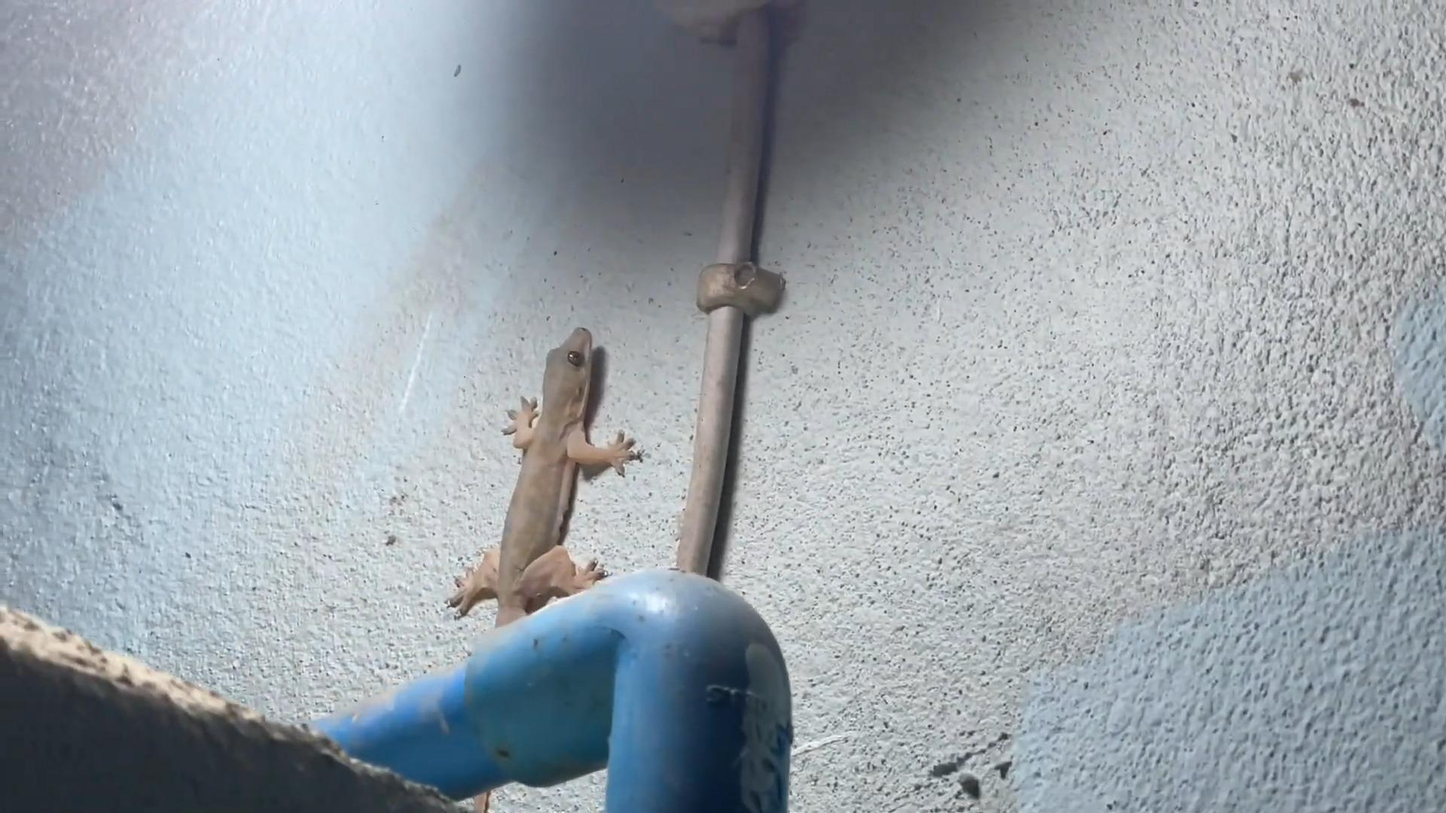lizard: (452, 318, 626, 580)
